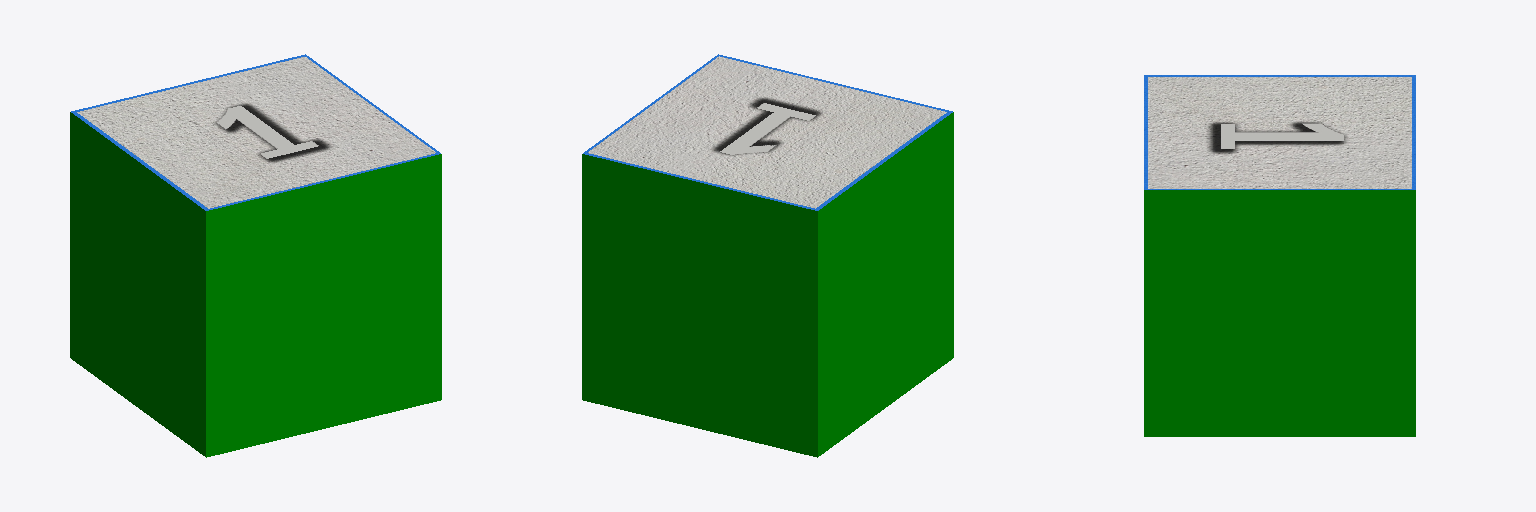
3 renders of one model, left to right at view 1: azimuth 30°, elevation 25°; view 2: azimuth 150°, elevation 25°; view 3: azimuth 270°, elevation 25°, orthographic.
Visible parts, largest first — view 1: Cube; view 2: Cube; view 3: Cube.
Part boxes in pixels (x1,y1,x2,y2): Cube: (70,54,441,457); Cube: (582,54,953,457); Cube: (1144,75,1415,436).
Size of the model in its own units: 2 by 2 by 2.
3 materials, 1 textured.